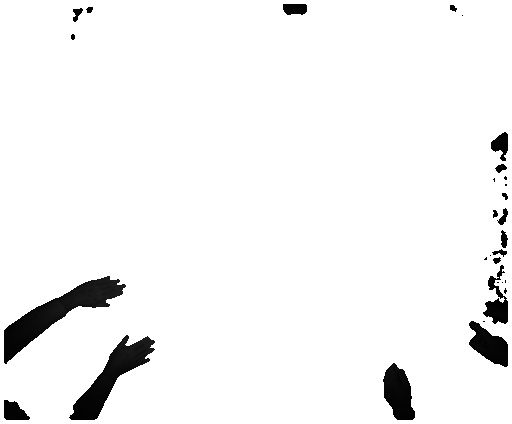hand: (112, 328, 159, 376), (74, 272, 127, 311), (376, 360, 415, 411), (464, 321, 504, 367)
